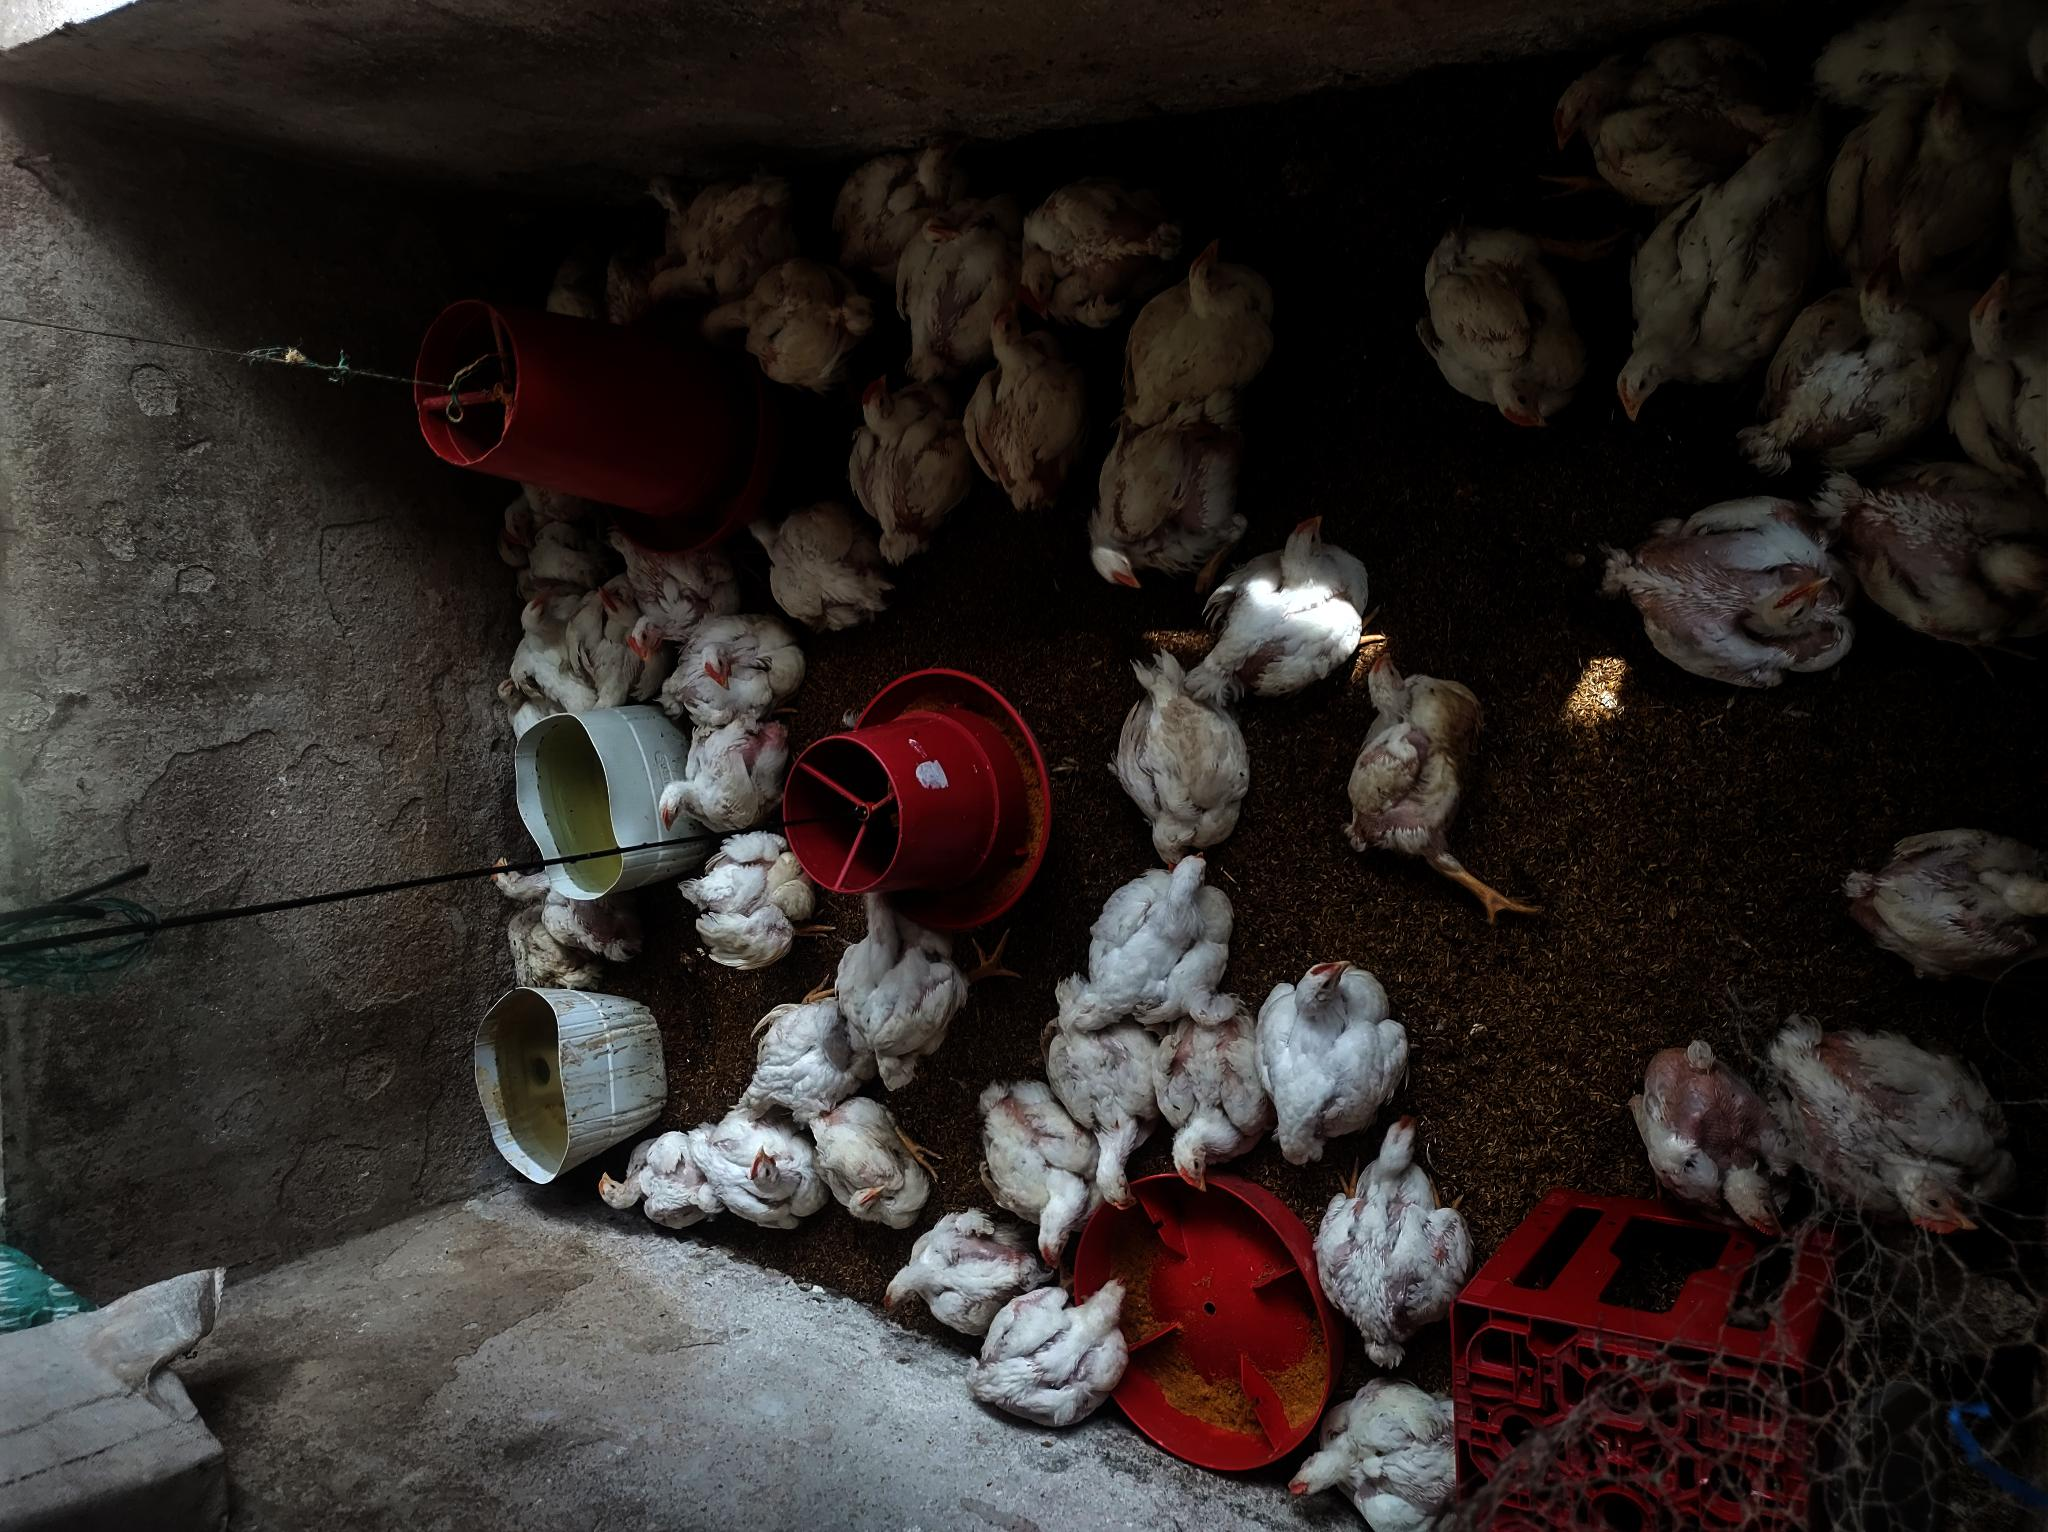Pollos: (1577, 140, 1826, 433), (1770, 1011, 2035, 1242), (1588, 497, 1844, 726), (1821, 402, 2048, 647), (1334, 637, 1519, 932), (1807, 793, 2048, 995), (1741, 237, 1955, 454), (1411, 204, 1589, 452), (1612, 1028, 1791, 1263), (1559, 10, 1778, 195), (1316, 1109, 1478, 1357), (948, 1263, 1162, 1439), (1245, 1374, 1467, 1532), (1104, 229, 1281, 418), (822, 895, 988, 1093), (1260, 941, 1409, 1159), (1824, 64, 1997, 253), (1076, 406, 1248, 592), (1108, 655, 1256, 867), (1216, 504, 1380, 686), (1084, 840, 1242, 1025), (1142, 991, 1276, 1196), (837, 360, 964, 570), (967, 1062, 1100, 1257), (645, 146, 796, 317), (677, 800, 819, 978), (1034, 1015, 1165, 1205), (475, 845, 639, 991), (738, 480, 877, 649), (977, 298, 1088, 507), (1799, 0, 2048, 92), (853, 1199, 1034, 1324), (1935, 262, 2048, 462), (1036, 171, 1191, 309), (893, 196, 1017, 362), (692, 1093, 822, 1242), (829, 129, 977, 257), (732, 970, 869, 1109), (587, 1106, 714, 1254), (816, 1078, 915, 1246), (652, 723, 800, 830), (742, 272, 864, 391), (671, 618, 785, 739), (629, 533, 721, 663), (1969, 126, 2048, 266), (502, 240, 603, 336), (500, 591, 582, 677), (481, 674, 561, 735), (502, 476, 594, 529), (476, 525, 560, 578), (687, 294, 753, 349), (645, 163, 701, 225), (594, 586, 642, 632)
